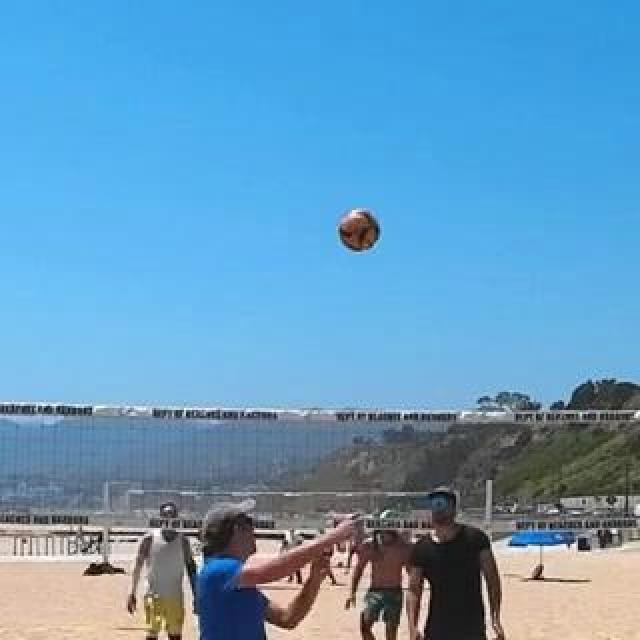volleyball: (339, 212, 379, 252)
